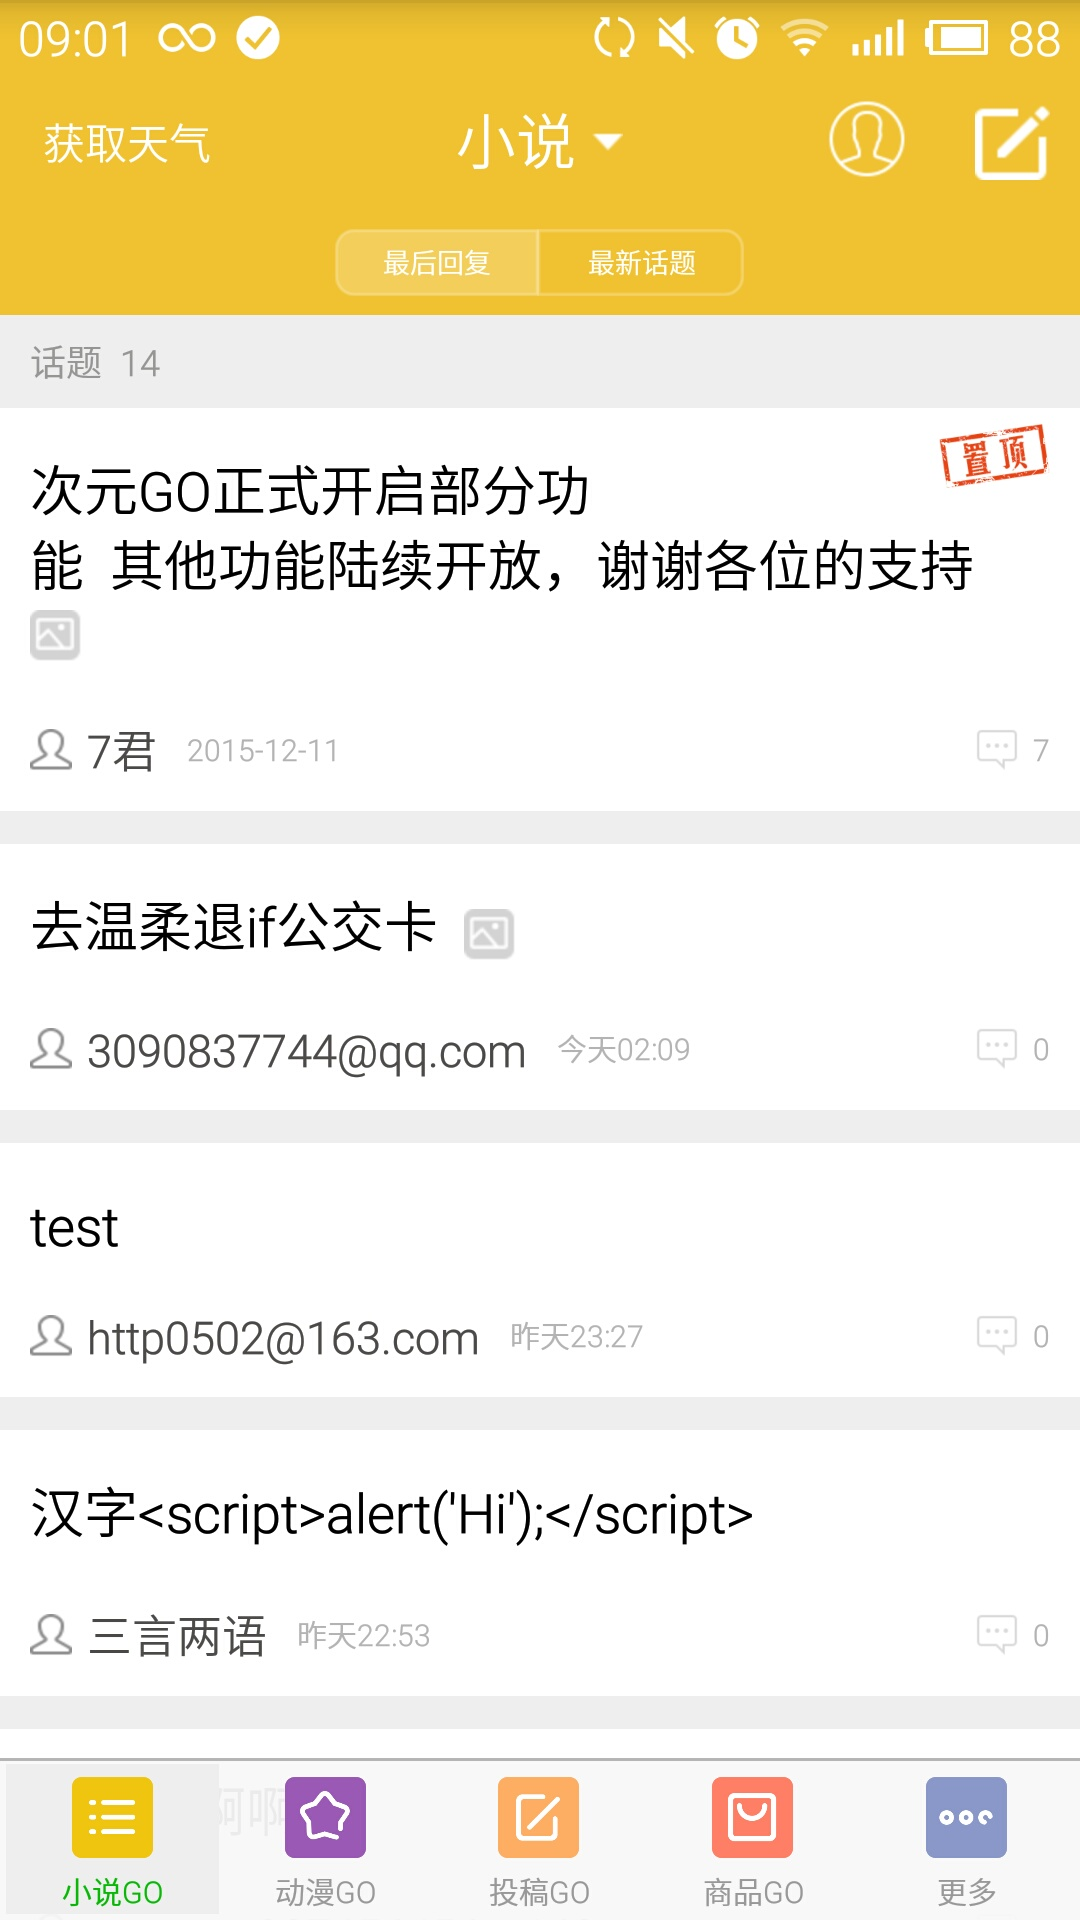nav: (21, 1766, 1062, 1920)
textview: (26, 426, 1080, 717)
